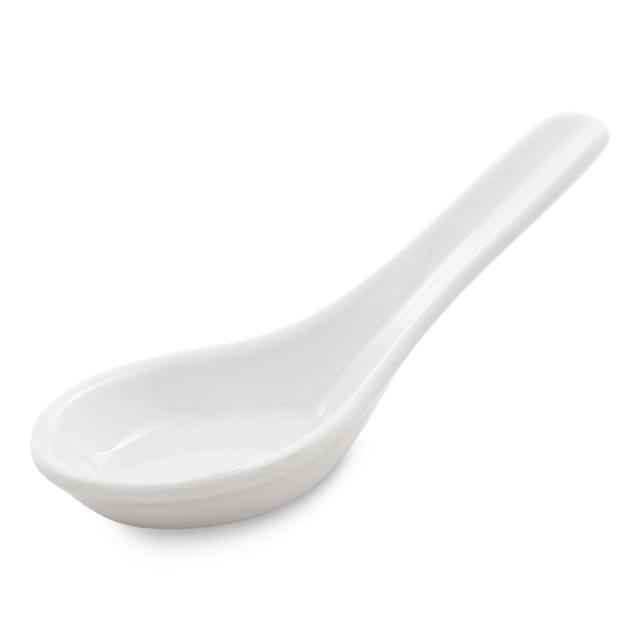spoon: (3, 99, 619, 539)
